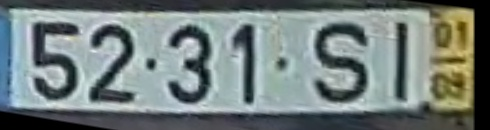1: (230, 23, 258, 109)
2: (86, 21, 139, 107)
3: (162, 22, 214, 107)
5: (27, 19, 82, 105)
I: (393, 20, 413, 104)
S: (311, 19, 374, 107)
